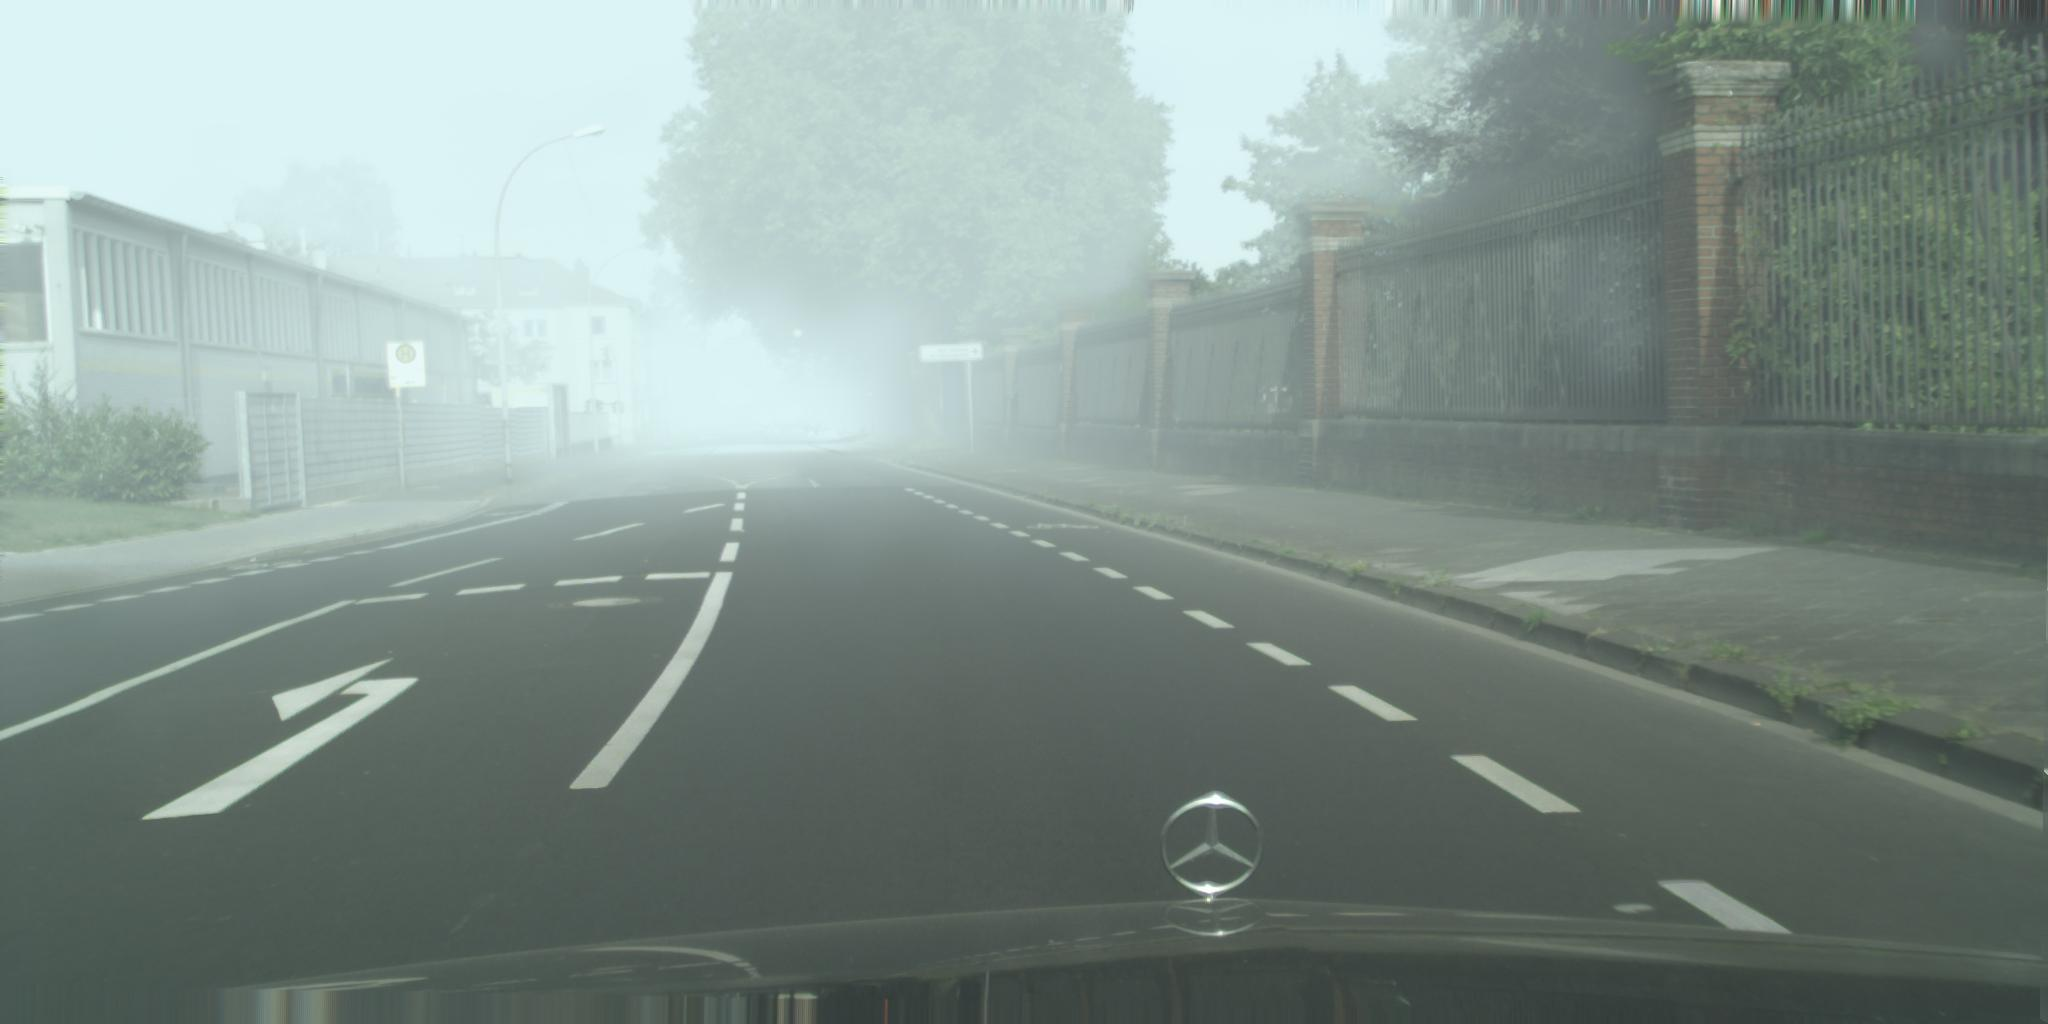car: (701, 424, 725, 441)
